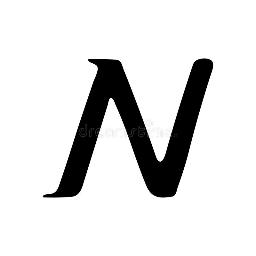n: (40, 45, 216, 213)
